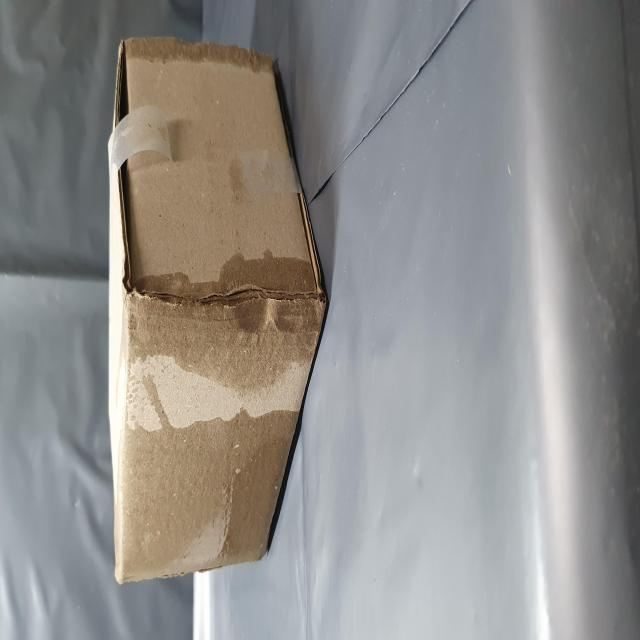wet: (34, 199, 225, 573), (324, 214, 337, 493)
